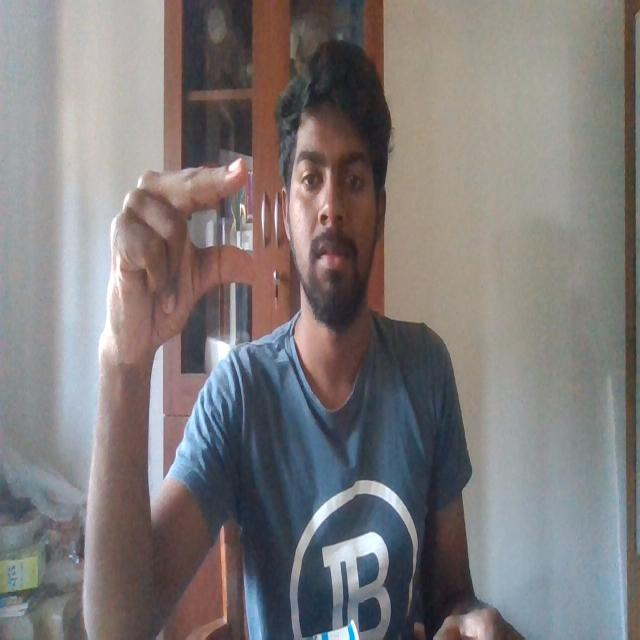No: (95, 150, 265, 358)
